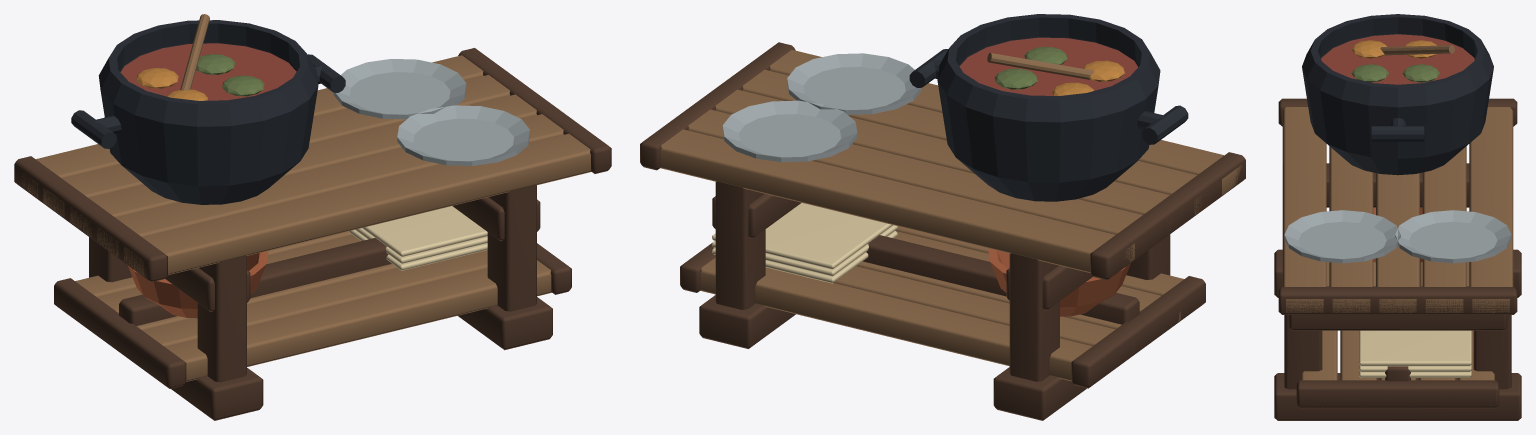
The model's file is feast_cook_station.glb.
The picture shows the model from 3 angles, left to right: view 1: azimuth 30°, elevation 25°; view 2: azimuth 150°, elevation 25°; view 3: azimuth 270°, elevation 25°; orthographic projection. The views are drawn at different scales.
Parts seen in each view (by area): view 1: feast_cook_station; view 2: feast_cook_station; view 3: feast_cook_station.
Boxes of the visible parts, box(x1,y1,x2,y2) form: feast_cook_station: box(14, 14, 611, 420); feast_cook_station: box(640, 14, 1245, 420); feast_cook_station: box(1274, 14, 1521, 420).
Bounding box in the file's own units: 3.2 × 2.08 × 1.7.
